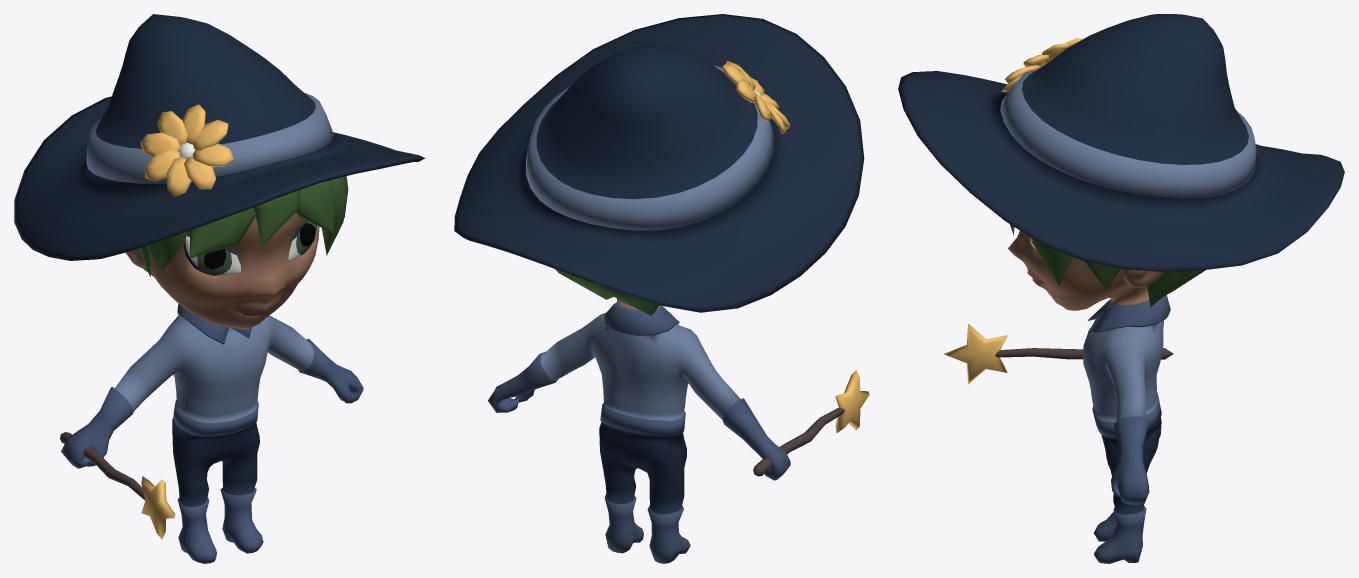
File: Witch.fbx
3 renders of one model, left to right at view 1: azimuth 30°, elevation 25°; view 2: azimuth 150°, elevation 25°; view 3: azimuth 270°, elevation 25°, orthographic.
Parts seen in each view (by area): view 1: Hat, Body, Hair, Wand, Cylinder; view 2: Hat, Body, Wand, Hair; view 3: Hat, Body, Wand, Hair.
Boxes of the visible parts, x1,y1,x2,y2 form: Hat: (14,14,425,260); Body: (61,213,363,563); Hair: (138,176,348,277); Wand: (60,432,175,539); Cylinder: (184,221,318,276); Hat: (454,14,864,312); Body: (488,299,790,563); Wand: (753,370,869,476); Hair: (555,269,658,315); Hat: (898,14,1344,271); Body: (1008,230,1170,563); Wand: (944,323,1173,384); Hair: (1010,224,1205,307).
Bounding box in the file's own units: 148 × 213 × 166.
